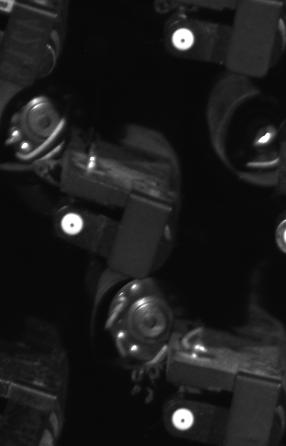fiber: (165, 403, 204, 434), (57, 208, 92, 241), (165, 24, 200, 53)
